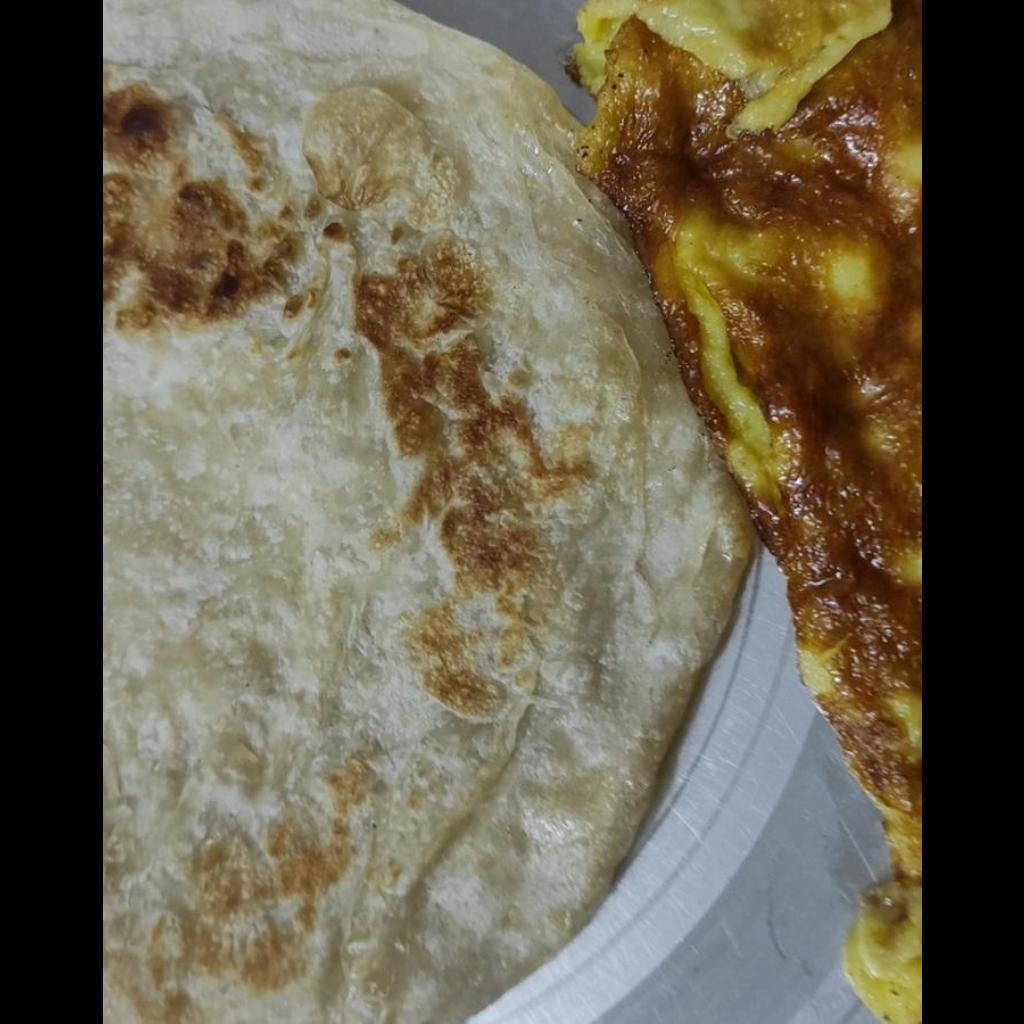egg-poached: (558, 0, 919, 1023)
ruti: (102, 4, 766, 1023)
